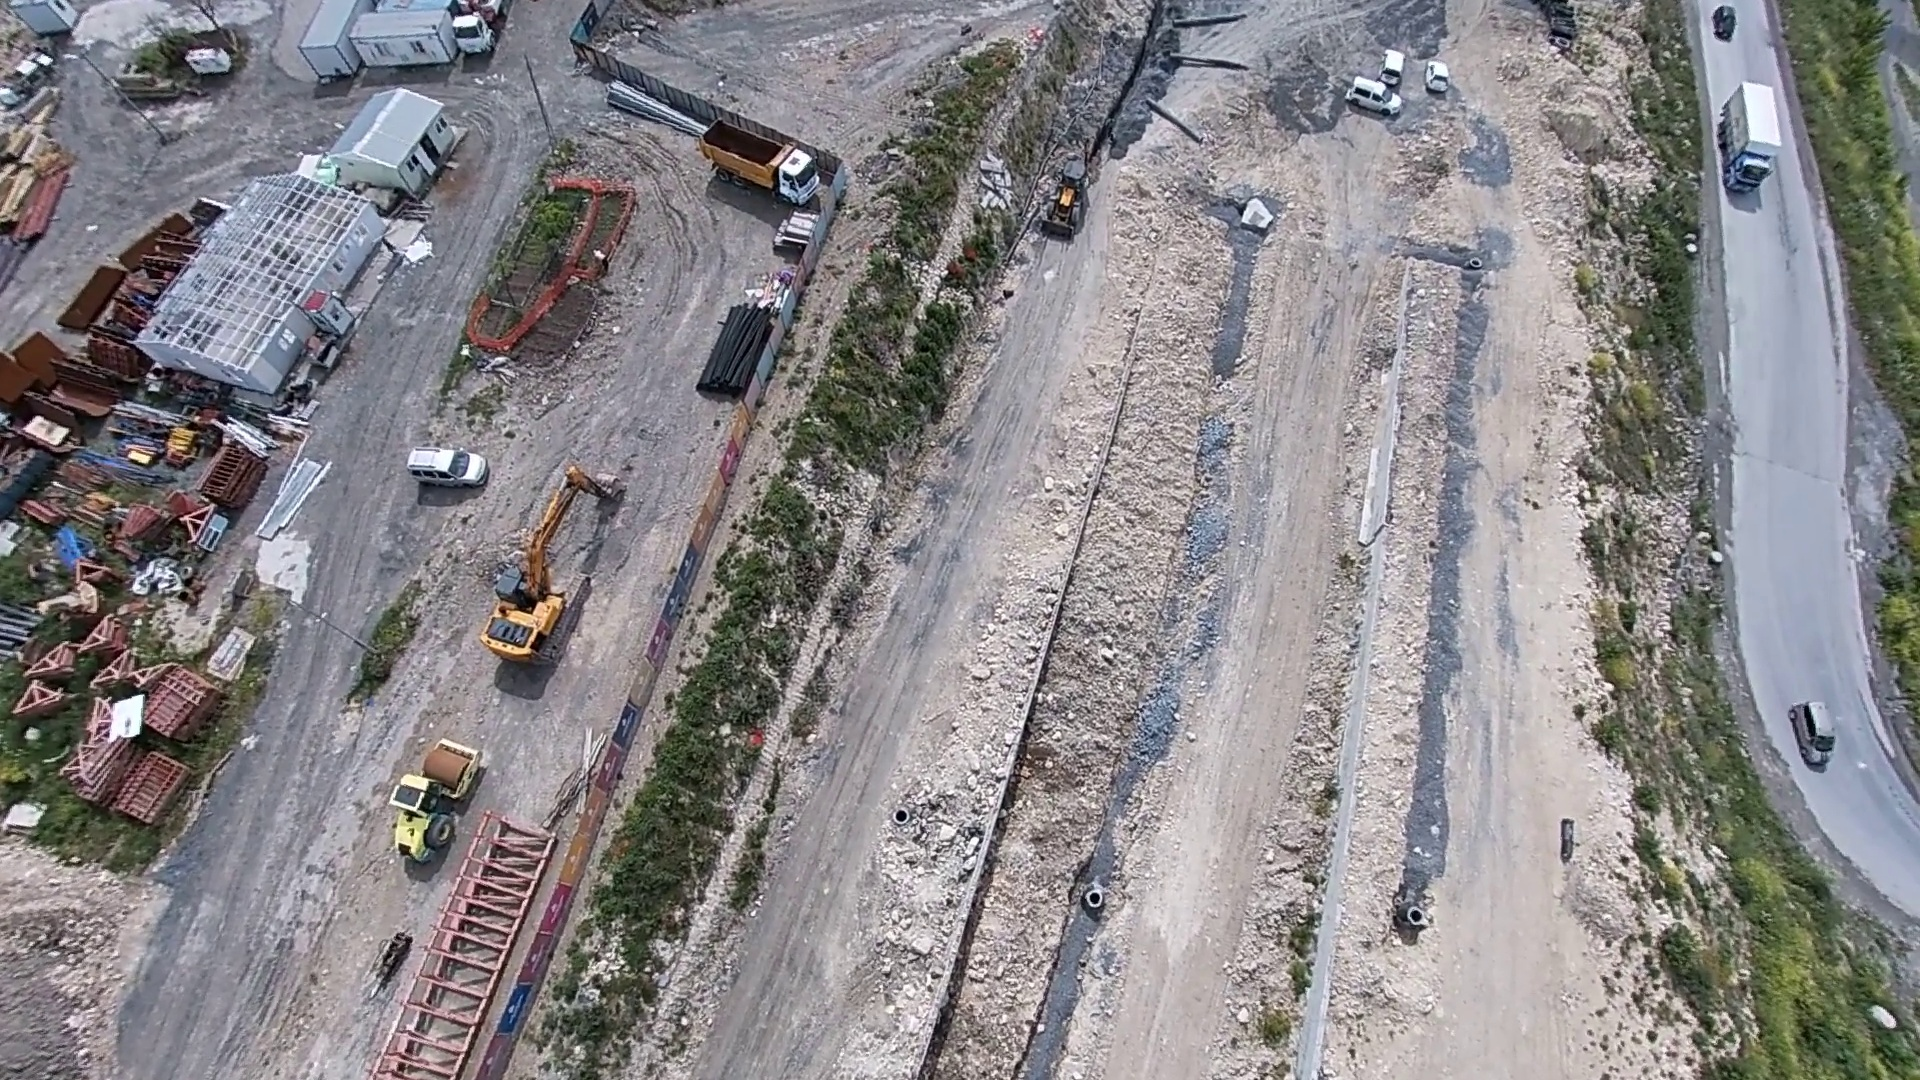arac: (477, 459, 638, 670), (396, 727, 491, 868), (692, 115, 827, 206), (1712, 80, 1793, 196), (1038, 149, 1108, 243), (406, 440, 495, 497), (1782, 696, 1842, 774), (447, 3, 512, 59), (1338, 73, 1408, 117), (1423, 54, 1456, 96), (1377, 45, 1414, 82), (1712, 7, 1745, 40)
